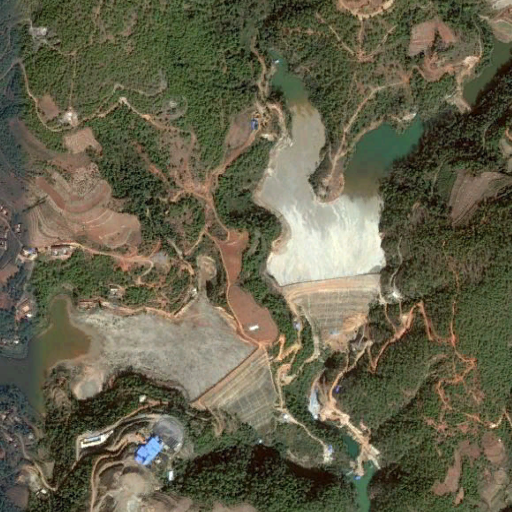tp: (254, 54, 425, 362), (32, 301, 283, 435)
